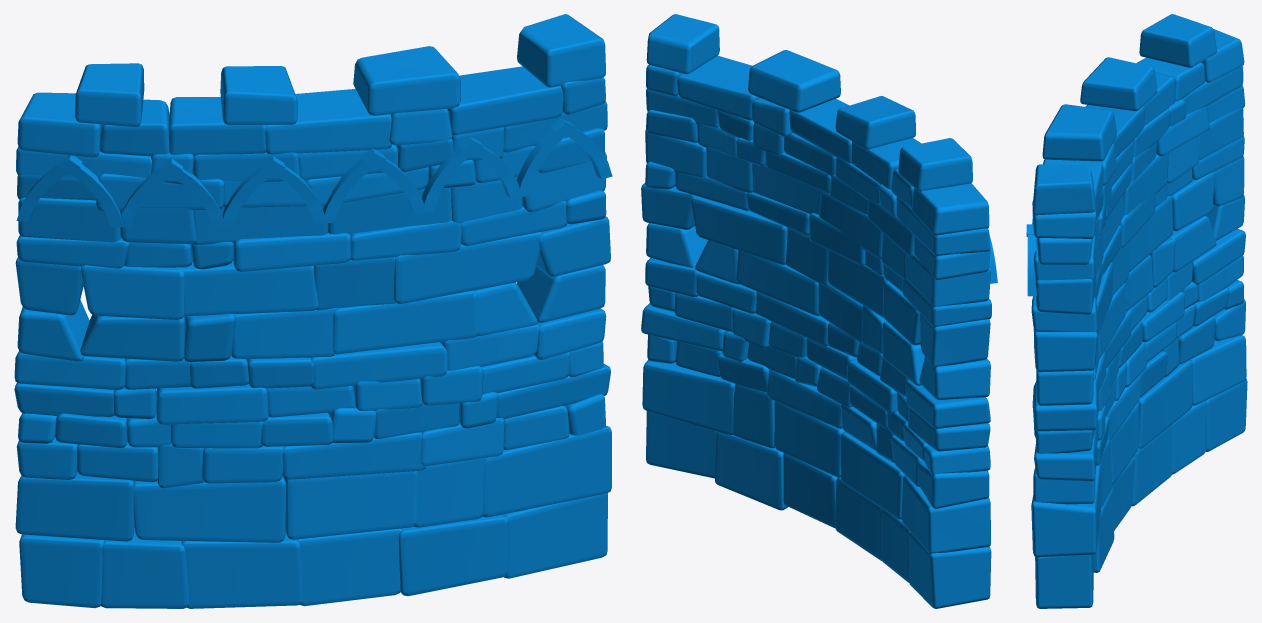
The model's file is bossarea_wall_curved.fbx.
The picture shows the model from 3 angles, left to right: view 1: azimuth 30°, elevation 25°; view 2: azimuth 150°, elevation 25°; view 3: azimuth 270°, elevation 25°; orthographic projection. The views are drawn at different scales.
Parts seen in each view (by area): view 1: town_wall_curved; view 2: town_wall_curved; view 3: town_wall_curved.
Boxes of the visible parts, bbox=[...] form: town_wall_curved: bbox=[14, 14, 612, 608]; town_wall_curved: bbox=[641, 14, 997, 608]; town_wall_curved: bbox=[1026, 14, 1247, 608].
Bounding box in the file's own units: 884 × 894 × 417.
